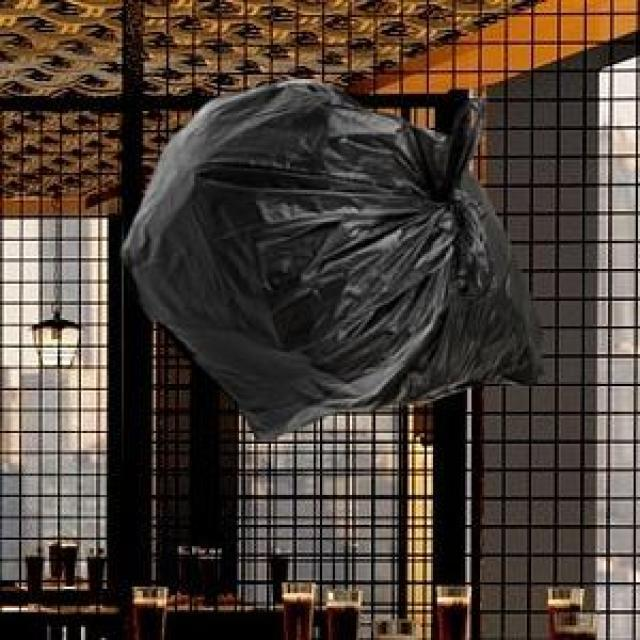Vinyl: (122, 81, 539, 439)
